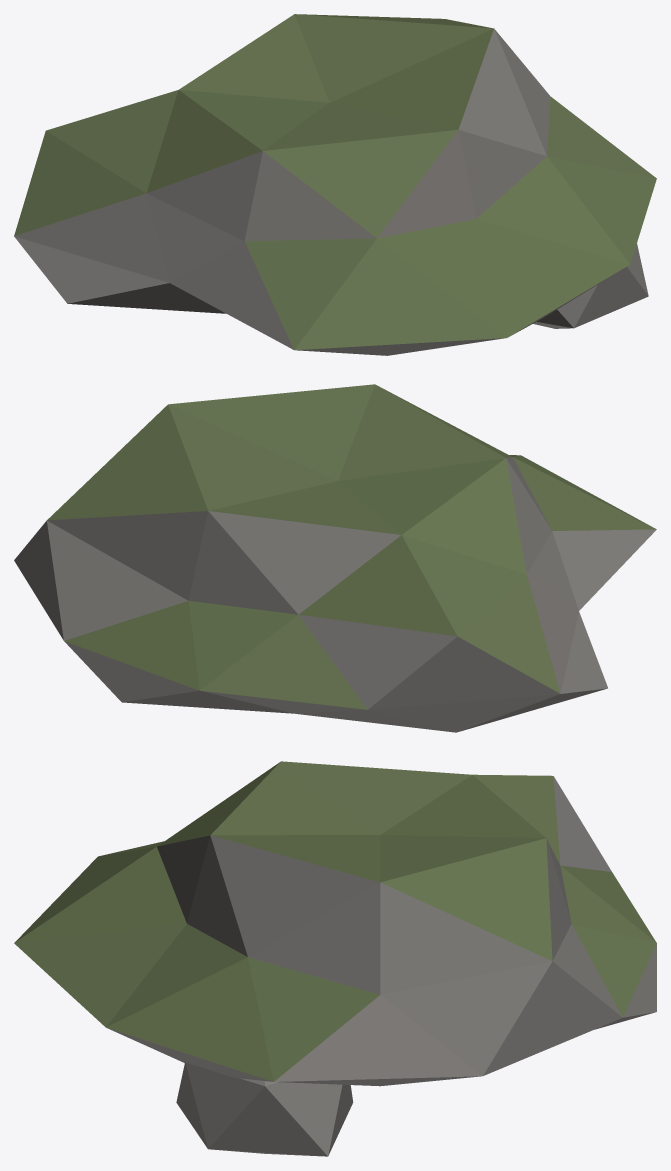
The model's file is rock_c.glb.
3 renders of one model, top to bottom at view 1: azimuth 30°, elevation 25°; view 2: azimuth 150°, elevation 25°; view 3: azimuth 270°, elevation 25°, orthographic. The views are drawn at different scales.
Parts seen in each view (by area): view 1: rock_c; view 2: rock_c; view 3: rock_c.
Part boxes in pixels (x1=…): rock_c: x1=14, y1=14, x2=656, y2=355; rock_c: x1=14, y1=384, x2=656, y2=732; rock_c: x1=14, y1=761, x2=656, y2=1156.
Size of the model in its own units: 2.23 by 1.03 by 2.23.
